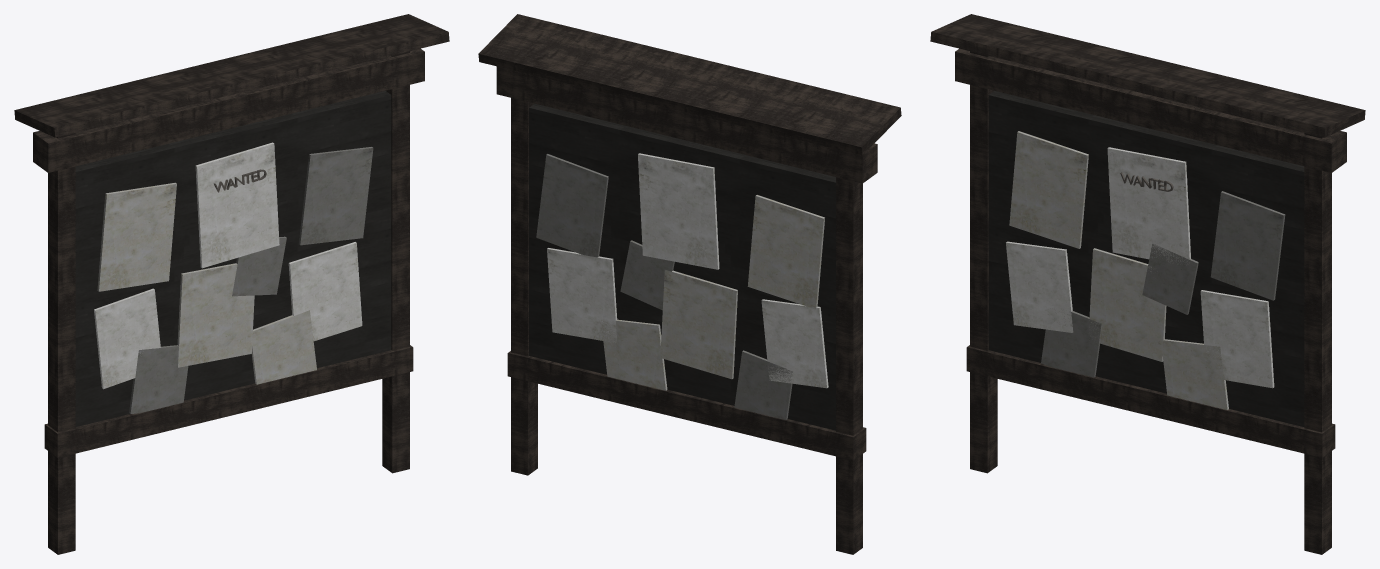
The model's file is prop_ashmoor_wanted_board.glb.
The picture shows the model from 3 angles, left to right: view 1: azimuth 30°, elevation 25°; view 2: azimuth 150°, elevation 25°; view 3: azimuth 330°, elevation 25°; orthographic projection. The views are drawn at different scales.
Parts seen in each view (by area): view 1: prop_ashmoor_wanted_board; view 2: prop_ashmoor_wanted_board; view 3: prop_ashmoor_wanted_board.
Boxes of the visible parts, x1=… form: prop_ashmoor_wanted_board: x1=14, y1=14, x2=449, y2=554; prop_ashmoor_wanted_board: x1=478, y1=14, x2=901, y2=554; prop_ashmoor_wanted_board: x1=930, y1=14, x2=1365, y2=554.
Bounding box in the file's own units: 2.24 × 2.42 × 0.4029.
Materials: 6 (5 with a texture image).
